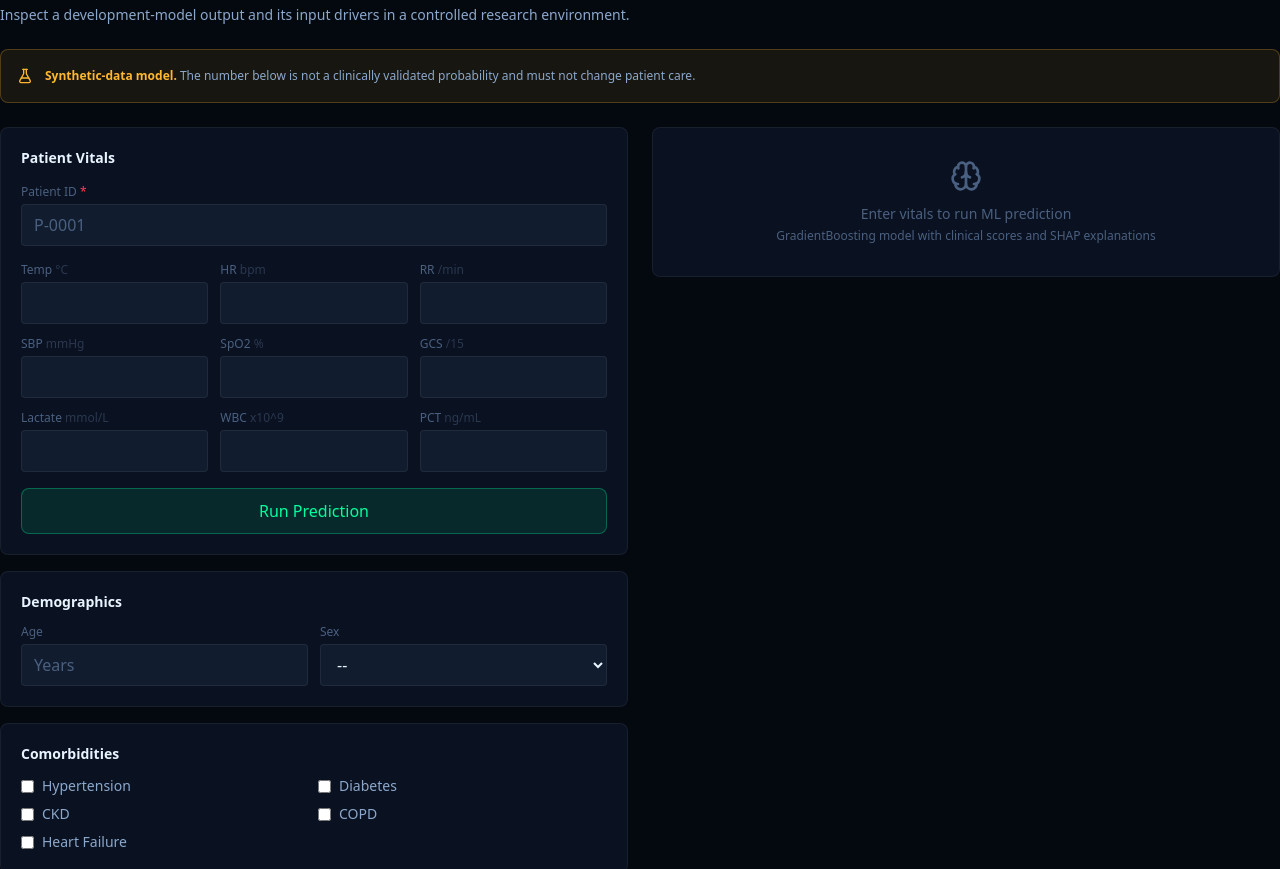
Test: Predict › shows decision-support language, honest uncertainty and data-quality warnings
This screenshot has width=1280, height=869.
In the field labelled "Patient ID *": (314, 225) [21,204,607,246], type "research-1"
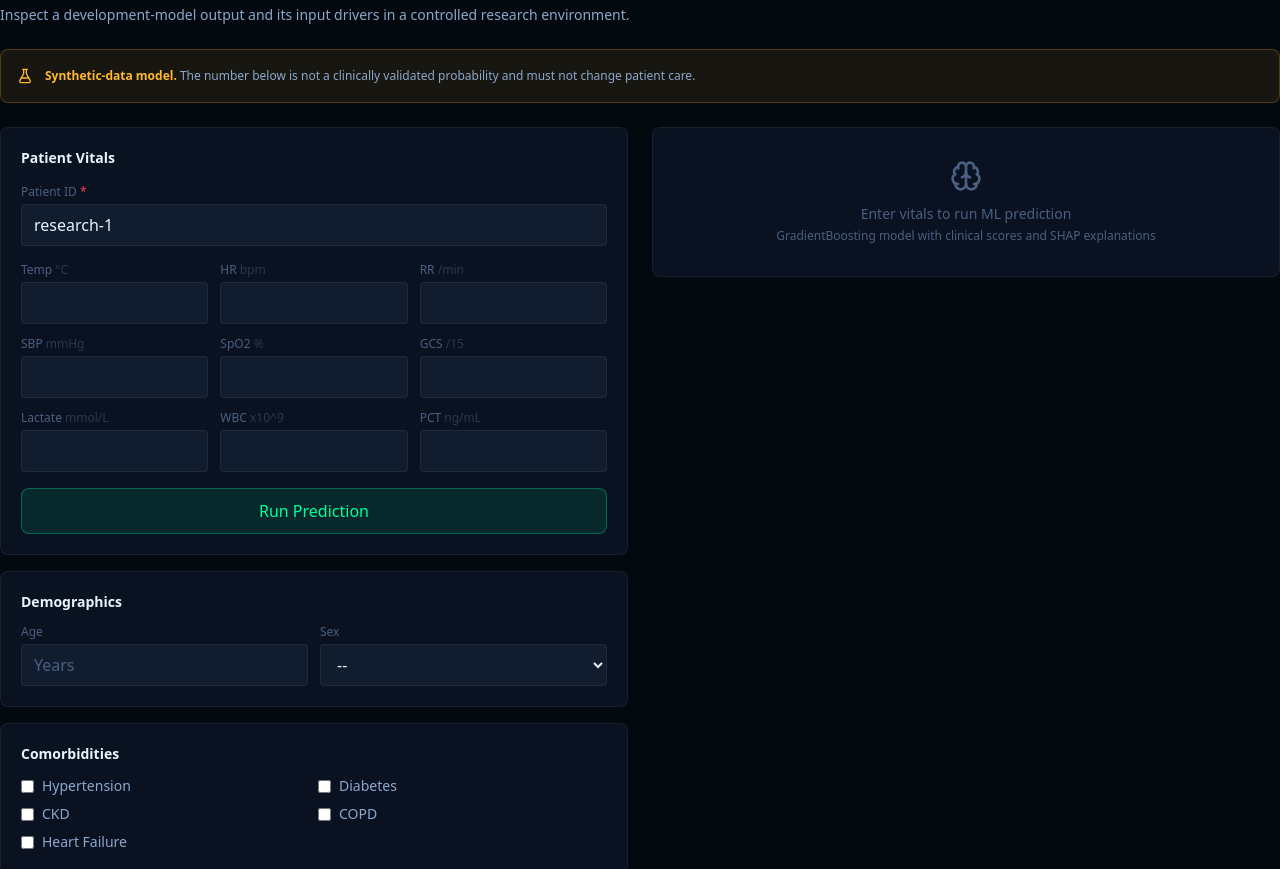
In the number field labelled "HR bpm": (314, 303) [220,282,408,324], type "118"
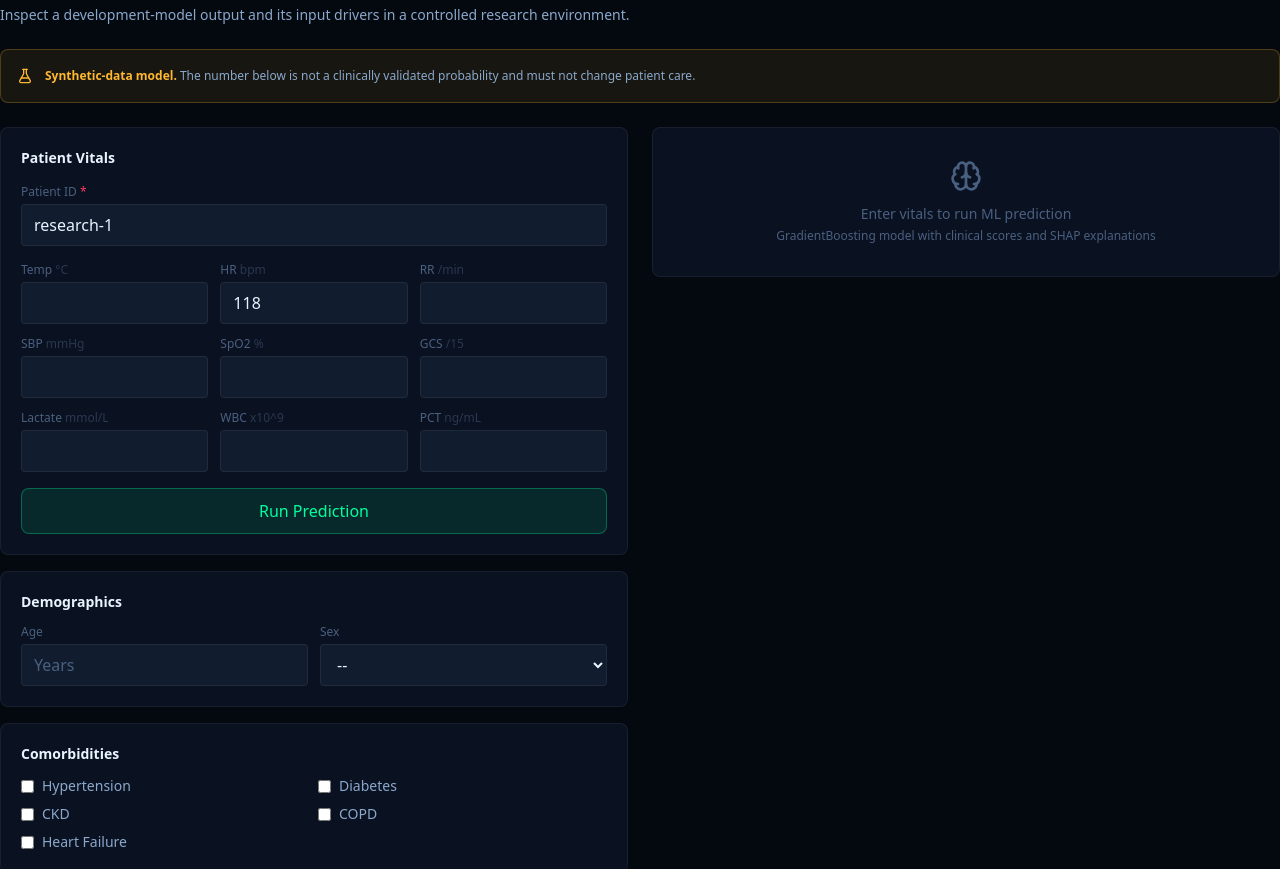
In the number field labelled "RR /min": (513, 303) [420,282,607,324], type "24"
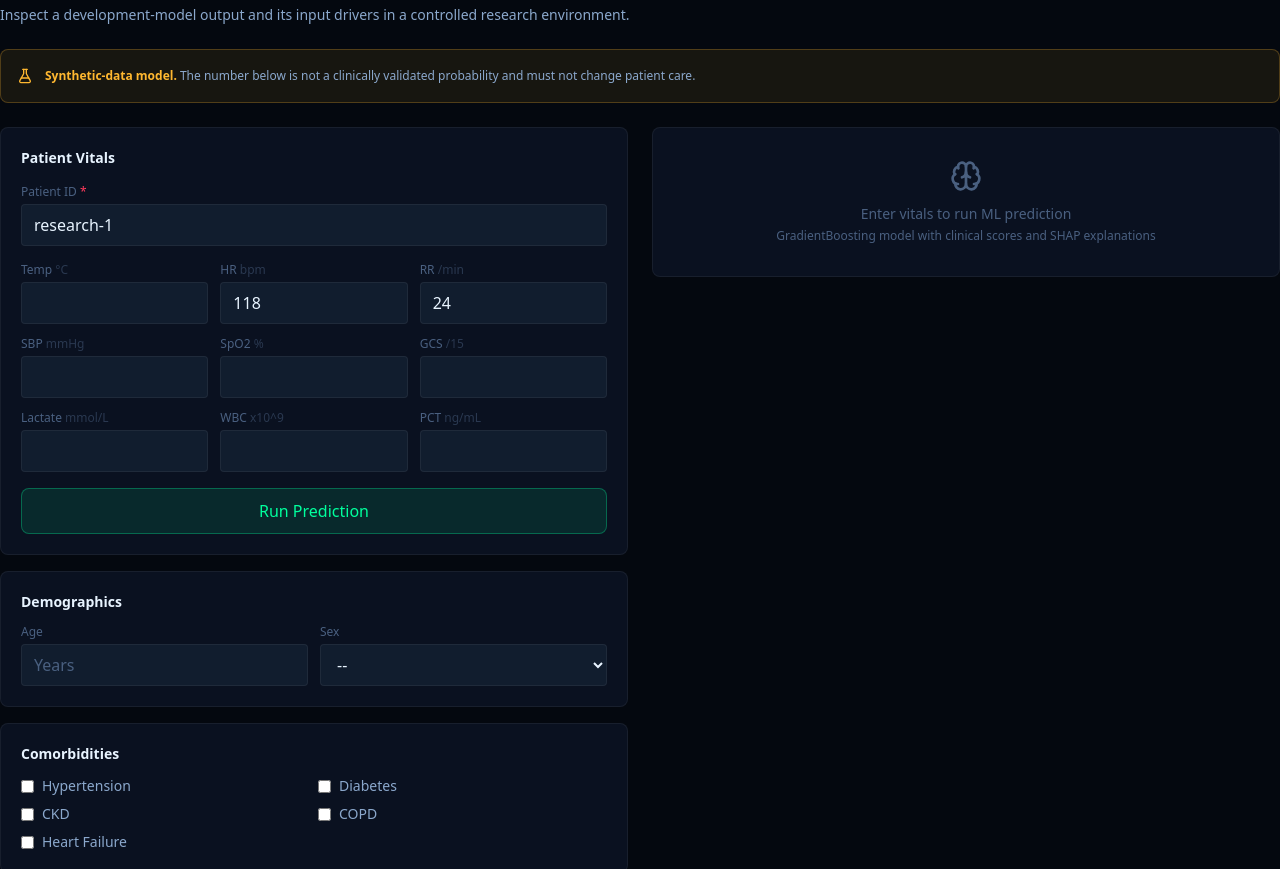
In the number field labelled "SBP mmHg": (115, 377) [21,356,208,398], type "96"
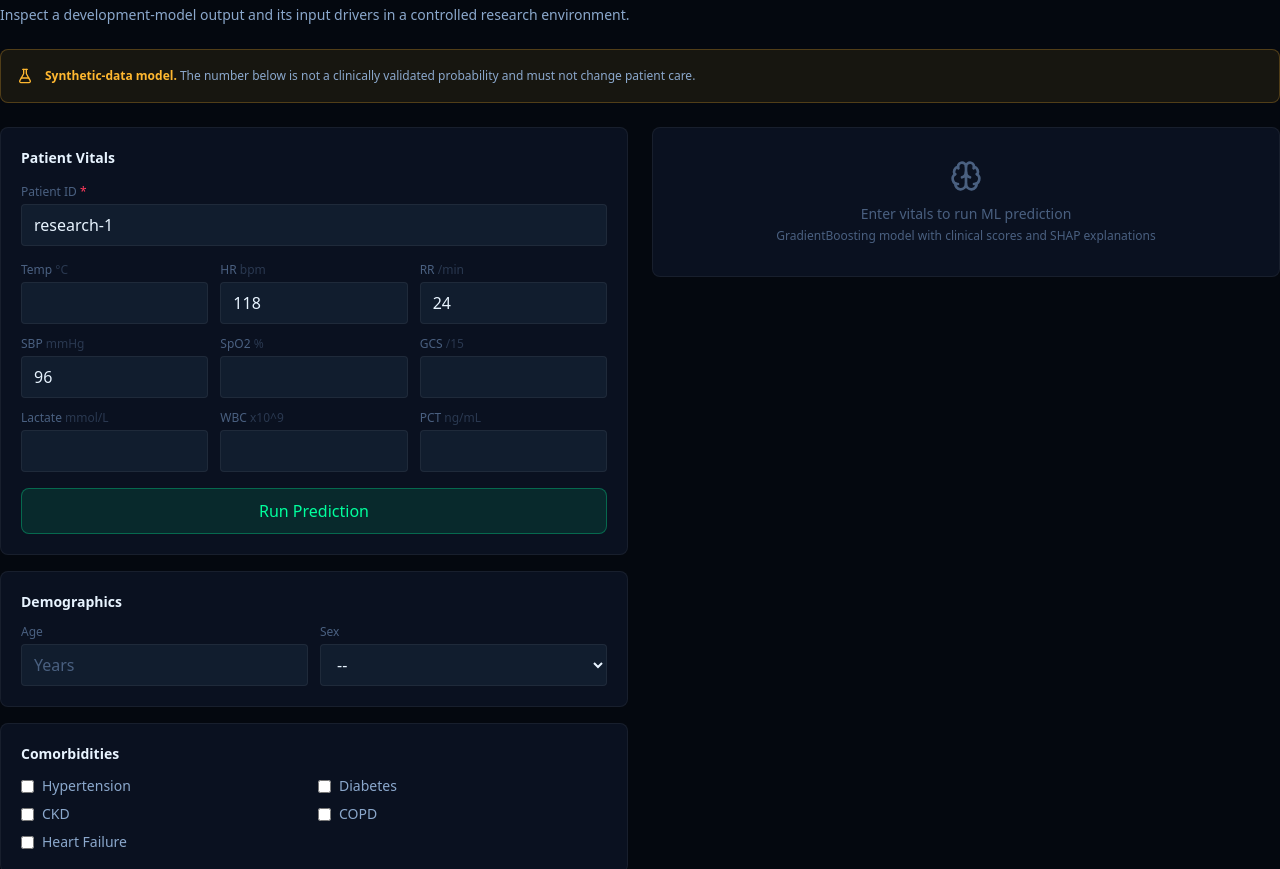
Click the button "Run Prediction": (314, 511) [21,488,607,534]
(page scrolled)
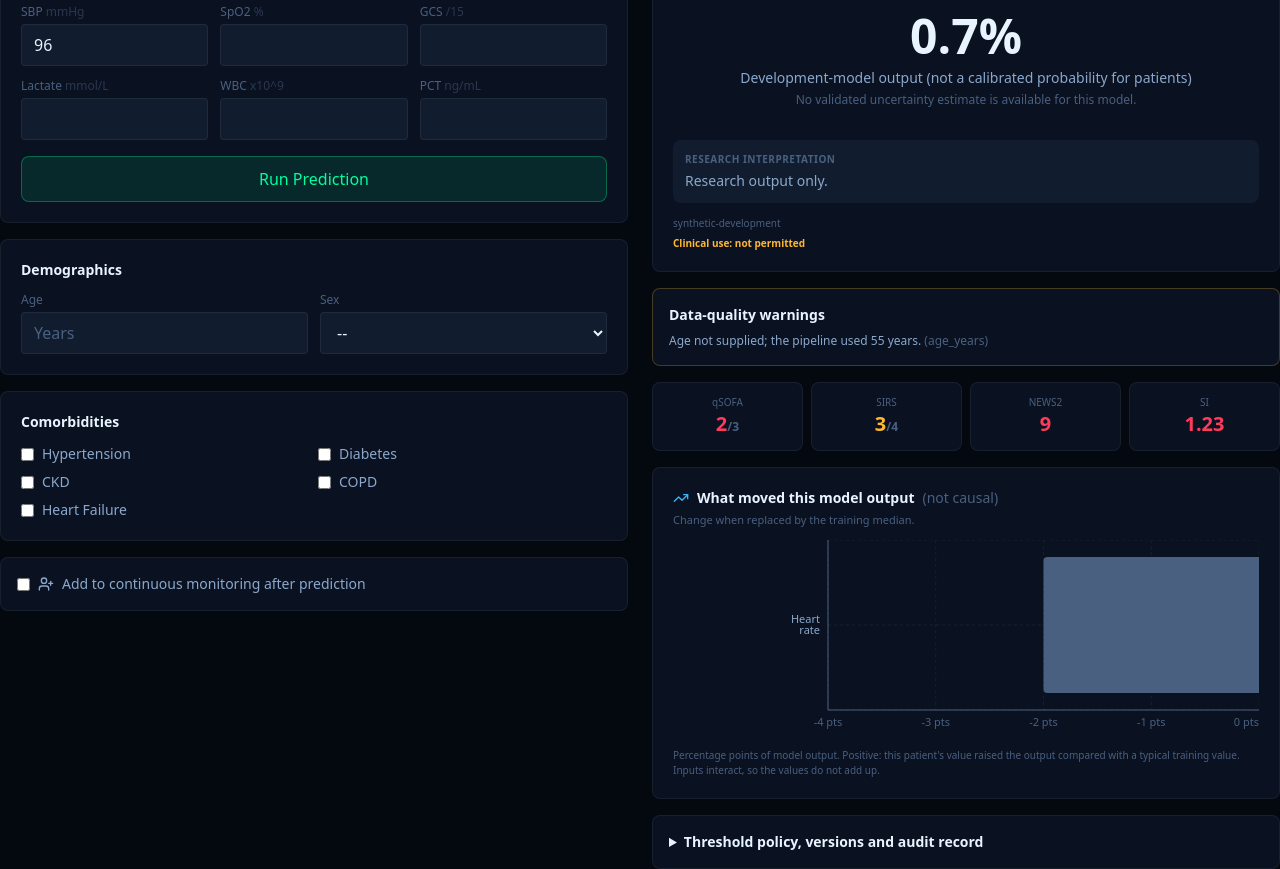
Now the text with test id "uncertainty" shows "No validated uncertainty estimate", box [796,91,1136,108]
Now the element with test id "data-quality" shows "Age not supplied", box [669,332,921,349]
Now the element with test id "attribution" shows "not causal", box [922,488,998,507]
